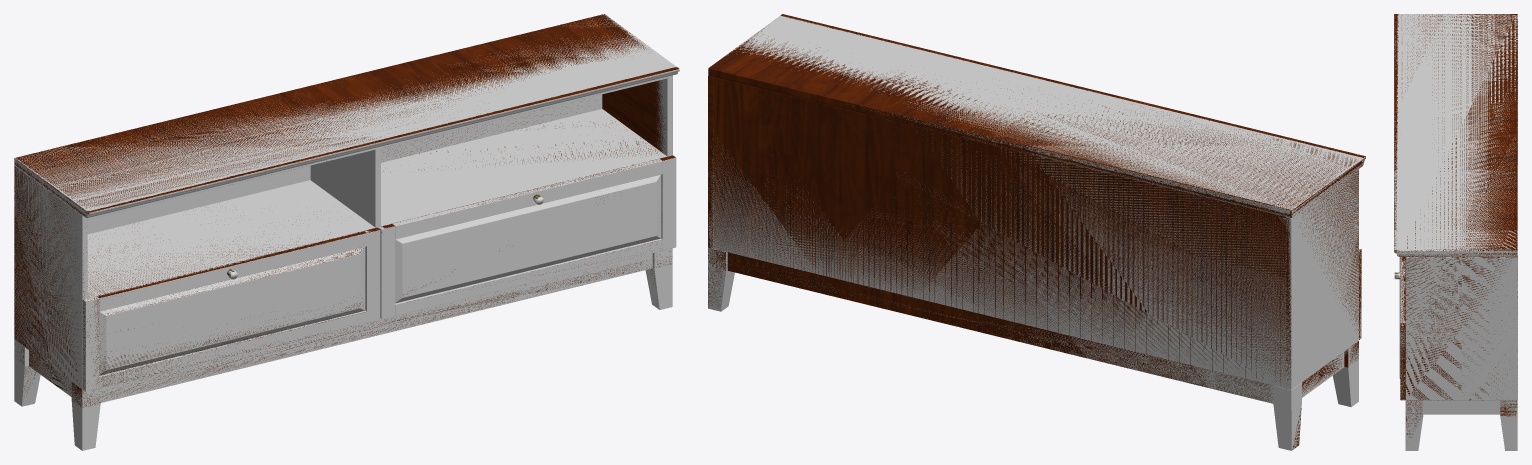
File: woodtv_new.fbx
The picture shows the model from 3 angles, left to right: view 1: azimuth 30°, elevation 25°; view 2: azimuth 150°, elevation 25°; view 3: azimuth 270°, elevation 25°; orthographic projection. The views are drawn at different scales.
Visible parts, largest first — view 1: Plane.007, tvtable_BAKED; view 2: tvtable_BAKED, Plane.007; view 3: Plane.007, tvtable_BAKED.
Part boxes in pixels (<box>): Plane.007: <box>14,14,679,450</box>; tvtable_BAKED: <box>14,14,679,407</box>; tvtable_BAKED: <box>708,14,1365,449</box>; Plane.007: <box>708,15,1365,450</box>; Plane.007: <box>1394,14,1517,450</box>; tvtable_BAKED: <box>1394,14,1517,437</box>.
Size of the model in its own units: 160 by 62.97 by 35.3.
